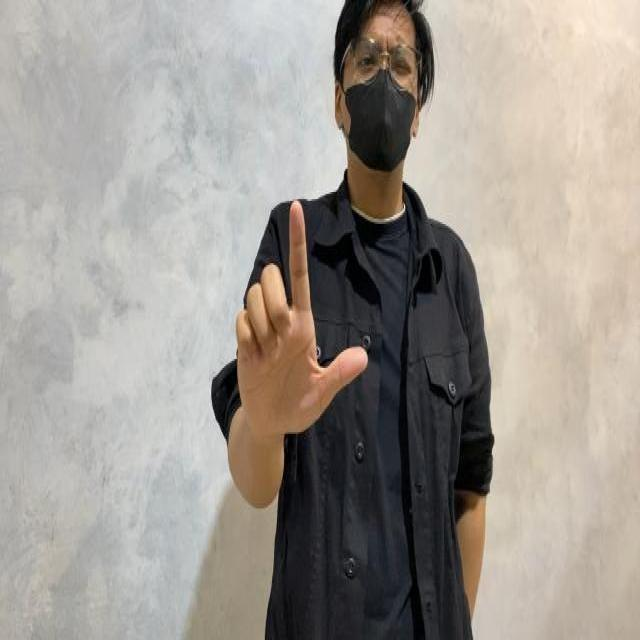L: (208, 186, 374, 442)
